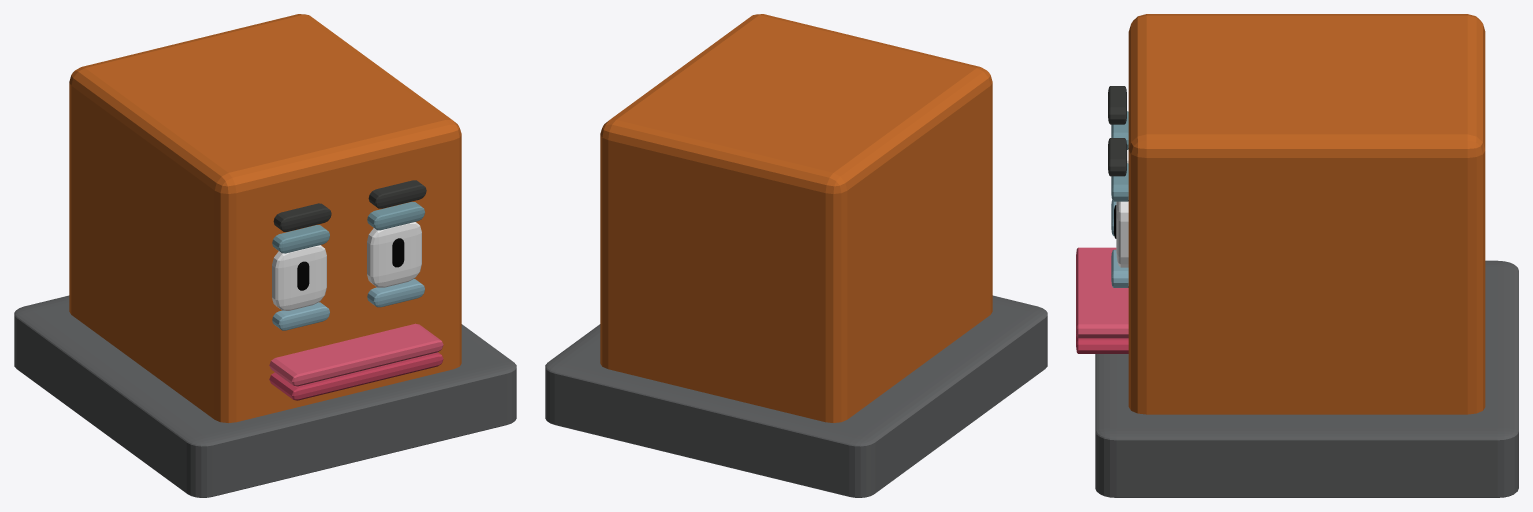
The model's file is ADface.glb.
3 views of the same model, side by side, from view 1: azimuth 30°, elevation 25°; view 2: azimuth 150°, elevation 25°; view 3: azimuth 270°, elevation 25° (orthographic). The views are drawn at different scales.
Visible parts, largest first — view 1: Cube.002; view 2: Cube.002; view 3: Cube.002.
Boxes of the visible parts, bbox=[...] form: Cube.002: bbox=[14, 14, 516, 497]; Cube.002: bbox=[545, 14, 1047, 497]; Cube.002: bbox=[1076, 14, 1518, 497].
Size of the model in its own units: 2.37 by 2.08 by 2.48.
